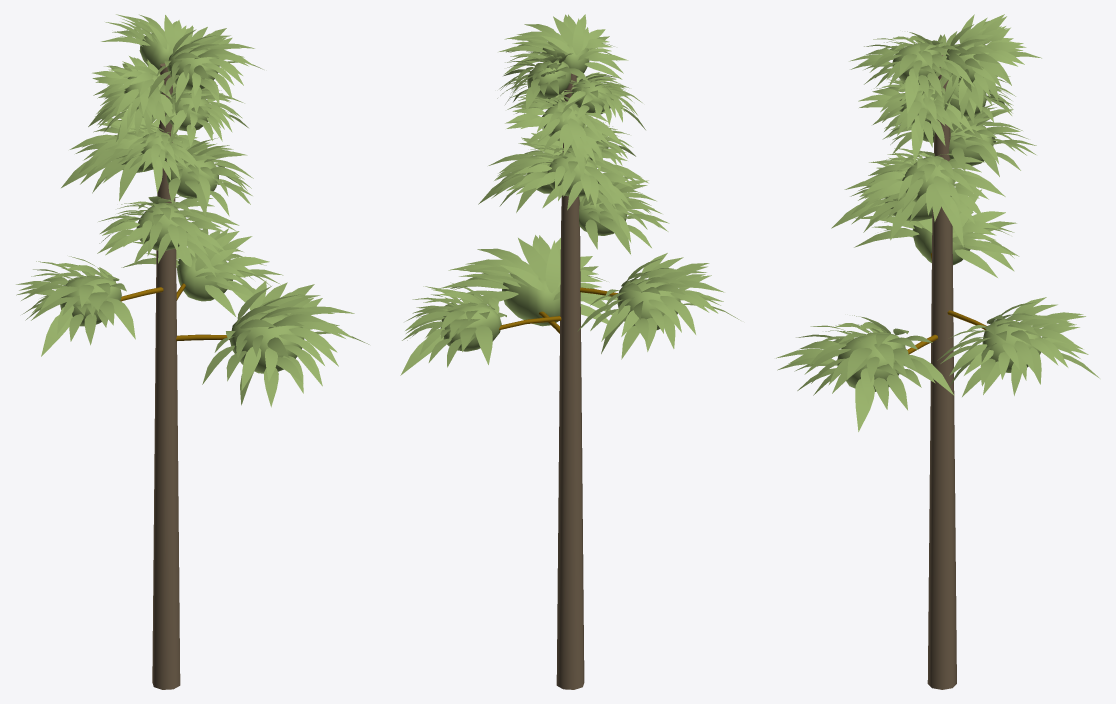
Rendered from Eucalipto.fbx.
The picture shows the model from 3 angles, left to right: view 1: azimuth 30°, elevation 25°; view 2: azimuth 150°, elevation 25°; view 3: azimuth 270°, elevation 25°; orthographic projection. The views are drawn at different scales.
Visible parts, largest first — view 1: pCylinder1, pPlane189, pPlane194, pPlane193, pPlane190, pPlane181, pPlane183, pPlane186, pPlane187, pPlane188, pPlane185, pPlane182 (+1 smaller); view 2: pCylinder1, pPlane194, pPlane189, pPlane190, pPlane187, pPlane184, pPlane181, pPlane193, pPlane182, pPlane183, pPlane186, pPlane188; view 3: pCylinder1, pPlane189, pPlane190, pPlane186, pPlane182, pPlane181, pPlane194, pPlane185, pPlane187, pPlane193, pPlane184.
Part boxes in pixels (x1=…): pCylinder1: x1=152, y1=63, x2=180, y2=689; pPlane189: x1=176, y1=280, x2=369, y2=407; pPlane194: x1=16, y1=256, x2=163, y2=356; pPlane193: x1=97, y1=196, x2=239, y2=277; pPlane190: x1=121, y1=228, x2=283, y2=316; pPlane181: x1=148, y1=25, x2=263, y2=114; pPlane183: x1=92, y1=56, x2=179, y2=145; pPlane186: x1=167, y1=137, x2=253, y2=216; pPlane187: x1=61, y1=109, x2=197, y2=201; pPlane188: x1=105, y1=124, x2=201, y2=193; pPlane185: x1=151, y1=85, x2=248, y2=146; pPlane182: x1=101, y1=14, x2=193, y2=69; pCylinder1: x1=556, y1=73, x2=584, y2=689; pPlane194: x1=577, y1=253, x2=740, y2=359; pPlane189: x1=440, y1=235, x2=617, y2=333; pPlane190: x1=400, y1=282, x2=561, y2=375; pPlane187: x1=506, y1=143, x2=648, y2=231; pPlane184: x1=505, y1=94, x2=622, y2=180; pPlane181: x1=499, y1=14, x2=628, y2=79; pPlane193: x1=579, y1=176, x2=669, y2=254; pPlane182: x1=497, y1=51, x2=589, y2=110; pPlane183: x1=547, y1=73, x2=645, y2=129; pPlane186: x1=478, y1=128, x2=597, y2=212; pPlane188: x1=563, y1=122, x2=635, y2=170; pCylinder1: x1=927, y1=55, x2=956, y2=689; pPlane189: x1=776, y1=315, x2=954, y2=431; pPlane190: x1=937, y1=297, x2=1099, y2=396; pPlane186: x1=859, y1=148, x2=1005, y2=247; pPlane182: x1=922, y1=14, x2=1041, y2=118; pPlane181: x1=849, y1=31, x2=974, y2=113; pPlane194: x1=854, y1=189, x2=1019, y2=277; pPlane185: x1=858, y1=79, x2=974, y2=162; pPlane187: x1=949, y1=103, x2=1036, y2=176; pPlane193: x1=831, y1=152, x2=969, y2=240; pPlane184: x1=945, y1=75, x2=1015, y2=123.
Bounding box in the file's own units: 212 × 421 × 189.
